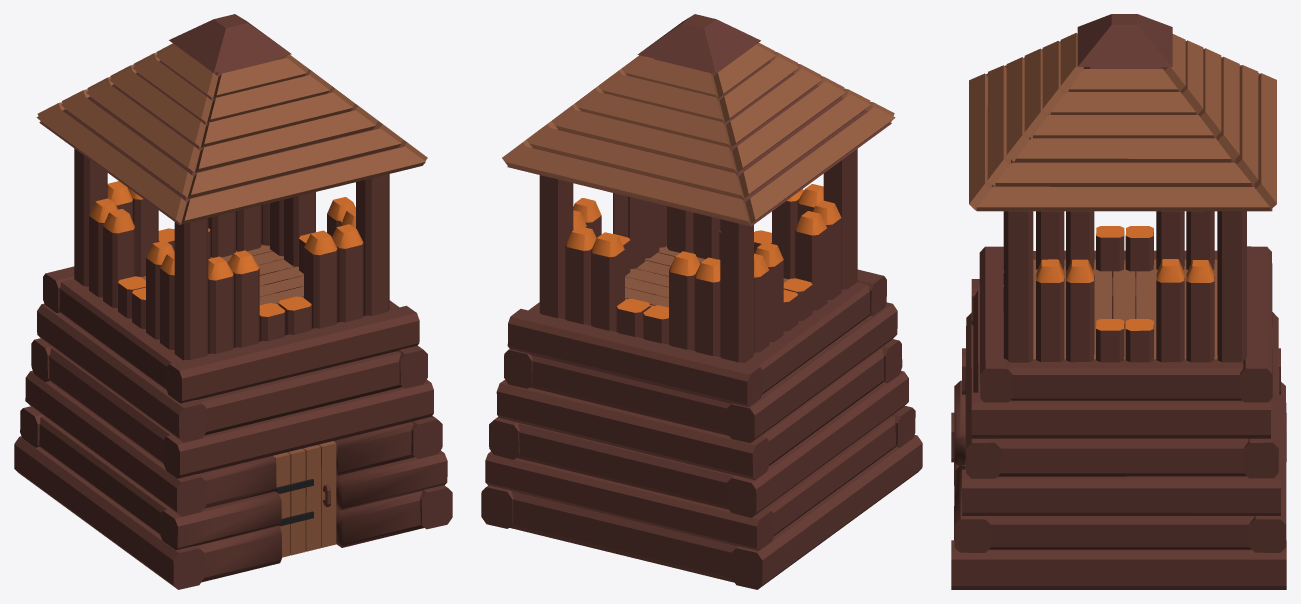
The model's file is tower_with_roof.fbx.
3 renders of one model, left to right at view 1: azimuth 30°, elevation 25°; view 2: azimuth 150°, elevation 25°; view 3: azimuth 270°, elevation 25°, orthographic. The views are drawn at different scales.
Visible parts, largest first — view 1: tower, door.002; view 2: tower; view 3: tower.
Part boxes in pixels (<box>): tower: <box>14,14,452,589</box>; door.002: <box>273,441,336,557</box>; tower: <box>481,14,922,589</box>; tower: <box>951,14,1286,589</box>.
Bounding box in the file's own units: 329 × 537 × 325.
